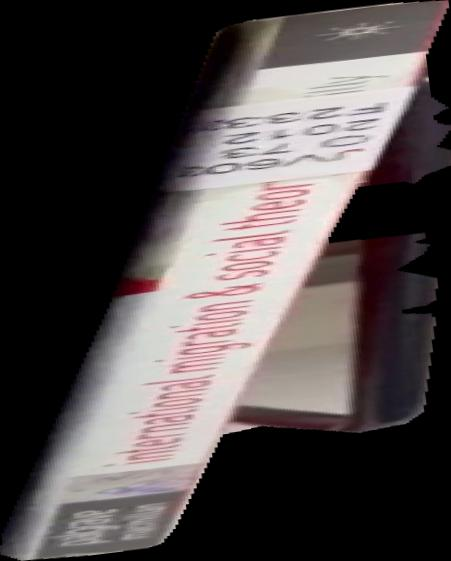reverse: (1, 1, 451, 561)
